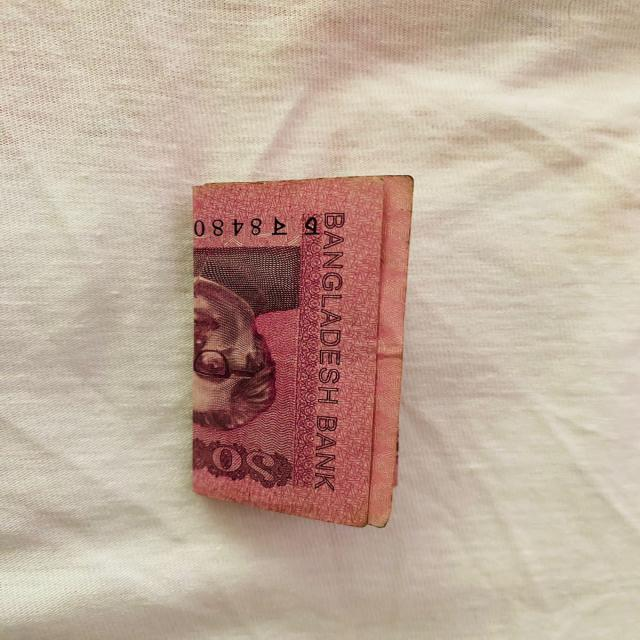Taka: (173, 171, 419, 515)
